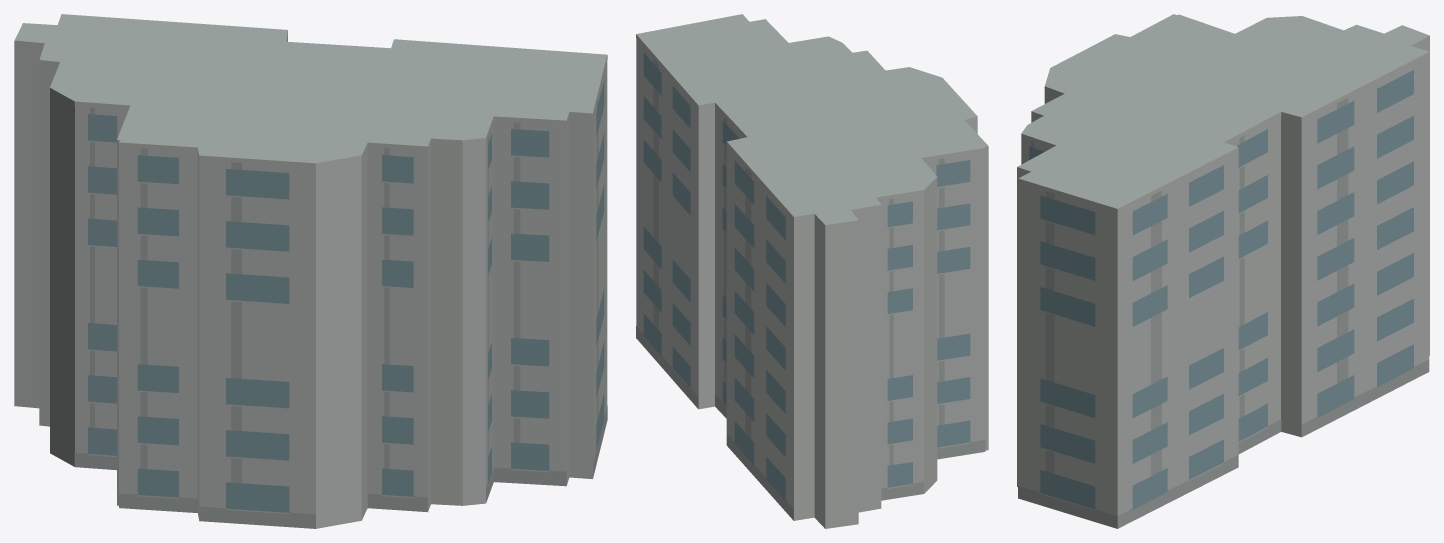
The model's file is survey-upis-32932544.glb.
The picture shows the model from 3 angles, left to right: view 1: azimuth 30°, elevation 25°; view 2: azimuth 150°, elevation 25°; view 3: azimuth 270°, elevation 25°; orthographic projection. The views are drawn at different scales.
Visible parts, largest first — view 1: survey-upis-32932544.tmp; view 2: survey-upis-32932544.tmp; view 3: survey-upis-32932544.tmp.
Boxes of the visible parts, x1=… form: survey-upis-32932544.tmp: x1=14, y1=14, x2=607, y2=528; survey-upis-32932544.tmp: x1=636, y1=14, x2=988, y2=528; survey-upis-32932544.tmp: x1=1017, y1=14, x2=1429, y2=528.
Bounding box in the file's own units: 24.83 × 19 × 22.22.
